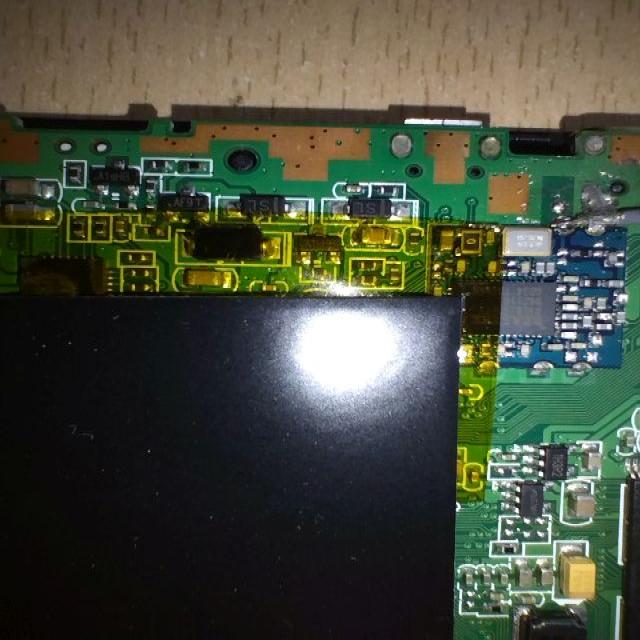capacitor: (2, 175, 58, 201), (0, 202, 55, 226), (563, 486, 595, 522), (181, 264, 228, 287), (431, 227, 459, 254), (586, 438, 602, 479), (359, 226, 390, 247), (537, 554, 553, 593), (518, 558, 535, 591), (495, 539, 521, 557), (498, 447, 521, 464), (481, 591, 506, 603), (518, 595, 539, 607), (560, 294, 576, 304), (562, 274, 579, 283), (582, 298, 592, 311), (520, 258, 530, 271)
resistor: (117, 244, 161, 265), (65, 156, 88, 195), (178, 152, 214, 174), (63, 214, 86, 246), (89, 218, 114, 246), (146, 154, 179, 175), (122, 279, 162, 294), (496, 464, 520, 484), (122, 270, 161, 282)
